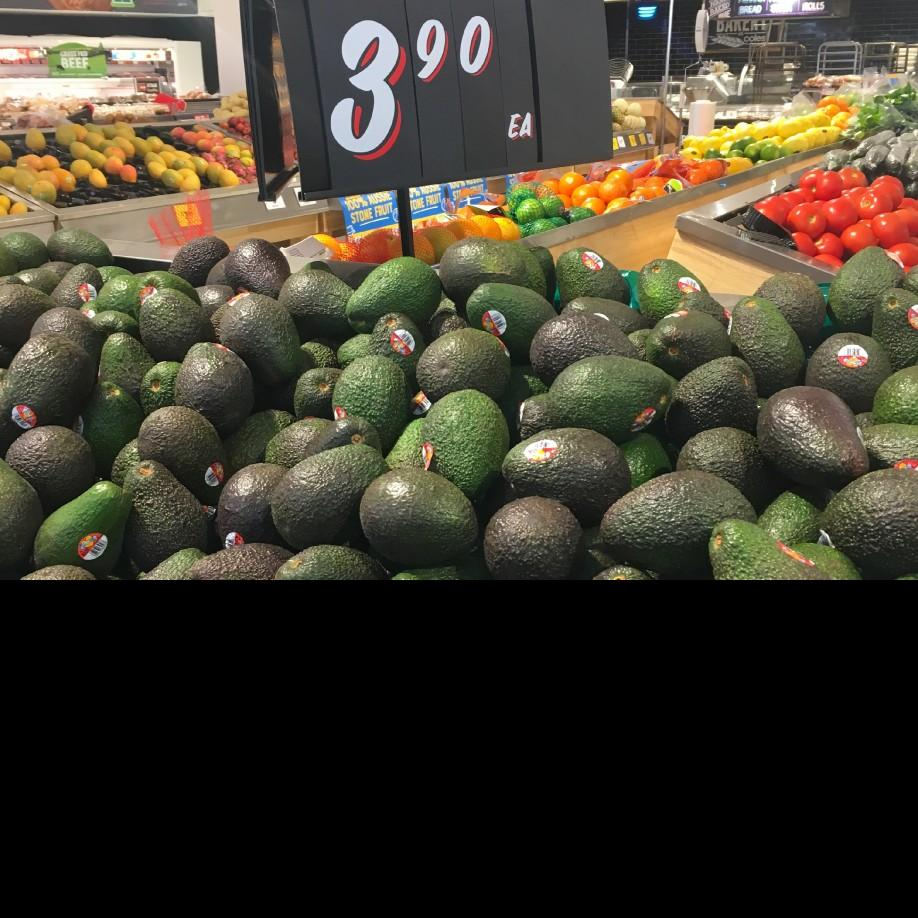almost: (600, 470, 759, 578), (502, 428, 631, 530), (270, 445, 392, 551), (359, 468, 480, 572), (124, 461, 216, 574), (824, 468, 916, 580), (2, 334, 96, 442), (137, 406, 227, 508), (223, 293, 302, 393), (176, 341, 254, 441), (730, 296, 806, 397), (440, 237, 547, 307), (806, 332, 893, 416), (416, 328, 511, 403), (676, 356, 757, 442), (5, 425, 95, 502), (827, 246, 905, 332), (646, 311, 730, 381), (752, 272, 825, 350), (277, 269, 356, 337), (367, 313, 427, 397), (556, 248, 631, 306), (872, 287, 918, 373), (30, 307, 103, 360), (1, 284, 56, 346), (47, 227, 113, 268)
ripe: (758, 386, 870, 489), (483, 495, 583, 580), (529, 312, 638, 387), (217, 462, 290, 549), (676, 427, 765, 495), (225, 238, 291, 301), (167, 235, 229, 288)
unripe: (547, 356, 677, 443), (421, 389, 510, 505), (33, 480, 131, 578), (331, 355, 411, 458), (466, 282, 558, 365), (346, 256, 442, 334), (708, 519, 829, 579), (75, 381, 142, 476), (637, 259, 710, 326), (225, 408, 297, 469), (98, 332, 155, 406), (756, 489, 823, 546), (265, 417, 332, 469), (136, 271, 201, 322), (618, 433, 673, 489), (790, 543, 863, 580), (140, 361, 182, 416), (1, 231, 47, 277), (96, 275, 136, 318), (95, 265, 134, 283)
